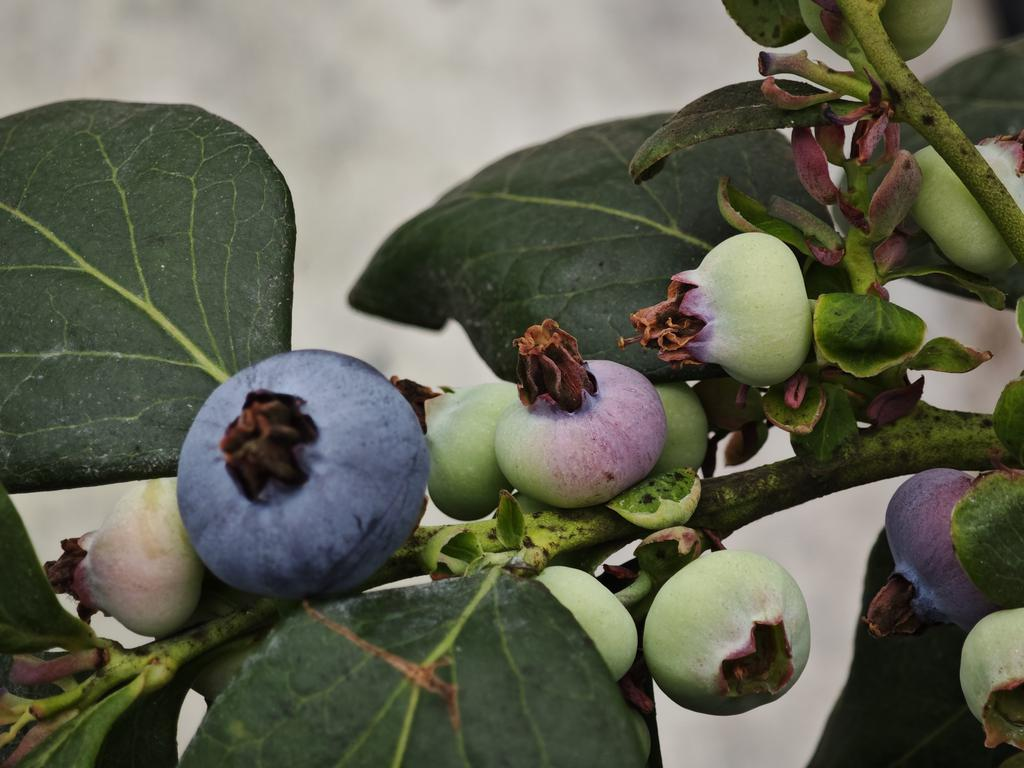RipeBlueBerry: (172, 345, 434, 609)
UnripeBlueBerry: (640, 547, 814, 719)
